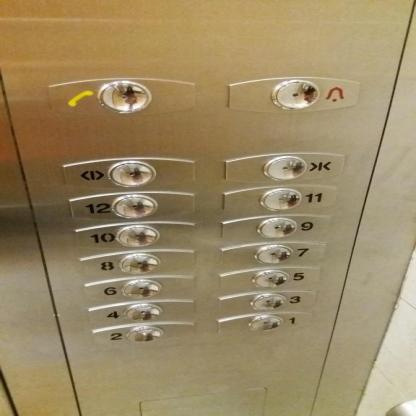1: (214, 309, 315, 335)
10: (72, 221, 196, 248)
11: (221, 184, 338, 212)
12: (65, 190, 196, 221)
2: (89, 322, 196, 344)
3: (215, 288, 318, 312)
4: (85, 298, 196, 322)
5: (216, 266, 321, 289)
7: (216, 240, 326, 265)
8: (76, 248, 196, 274)
9: (219, 213, 331, 240)
G: (81, 274, 196, 299)
alarm: (224, 74, 362, 114)
call: (46, 76, 197, 118)
close: (221, 150, 344, 184)
open: (59, 156, 197, 190)
